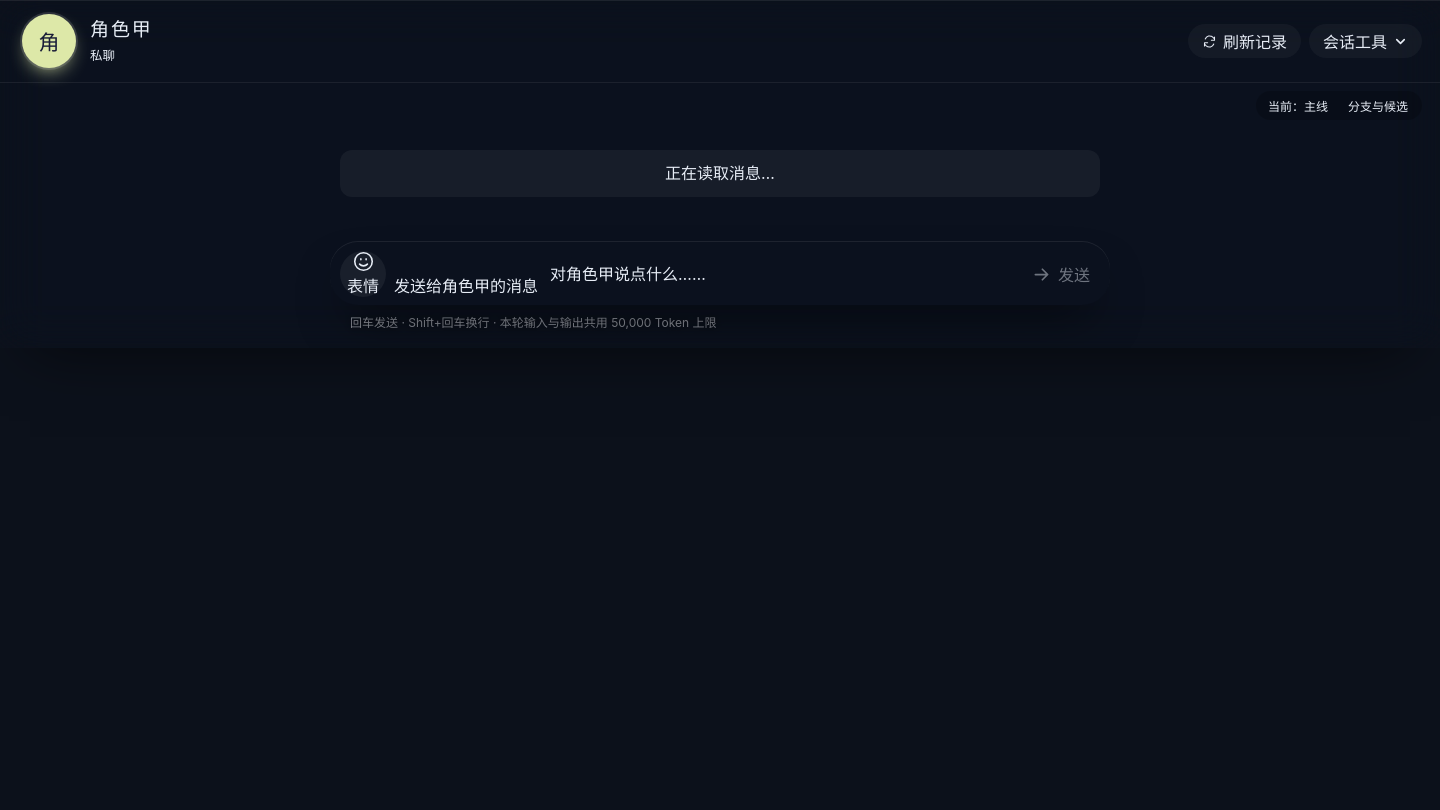
Test: sends one durable turn, requests one reply, then refreshes the transcript
The width and height of the screenshot is (1440, 810).
Type "你好" into the text box.
click(778, 273); type("你好")  # box [546,249,1011,297]
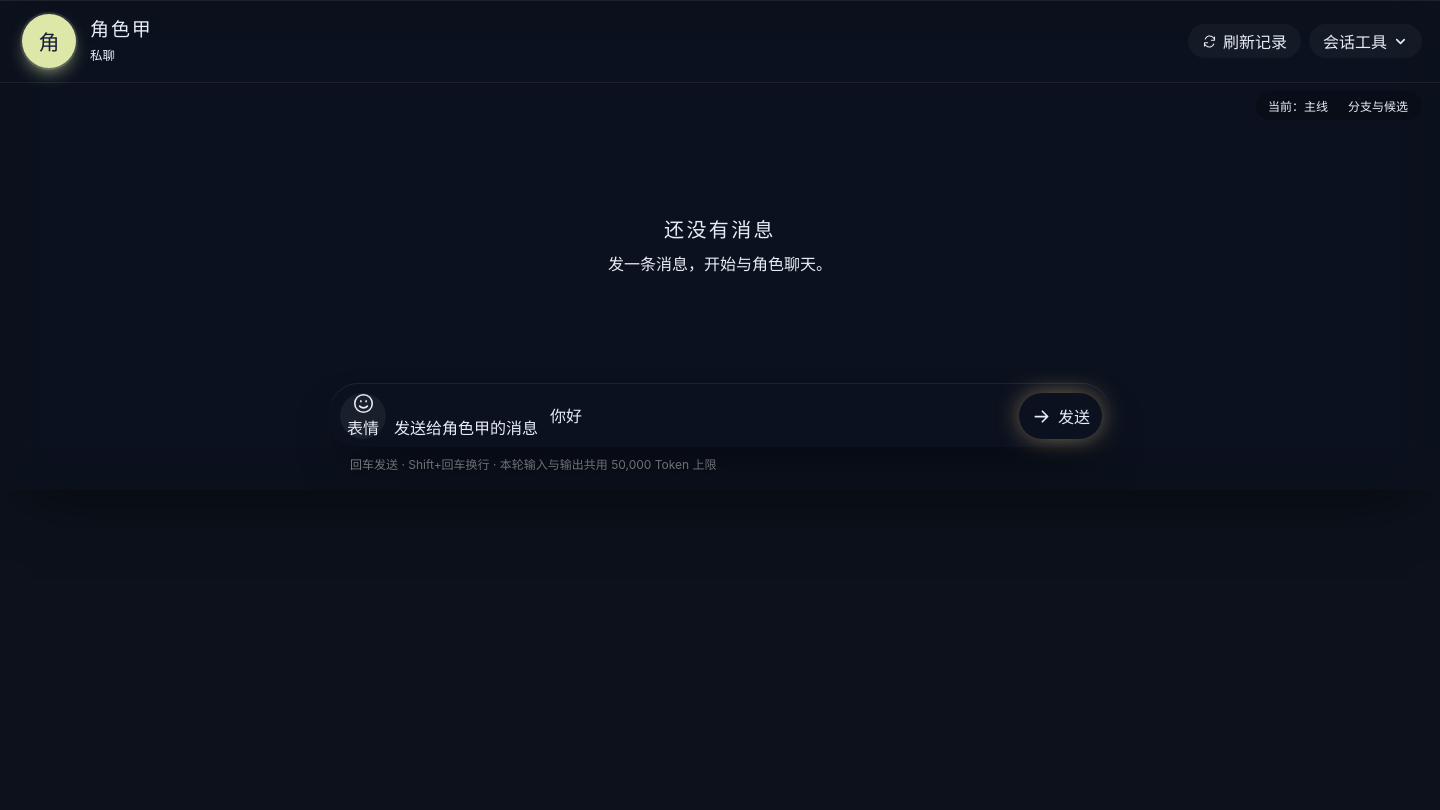
Click the button "发送".
click(1060, 416)  # box [1019,393,1102,439]
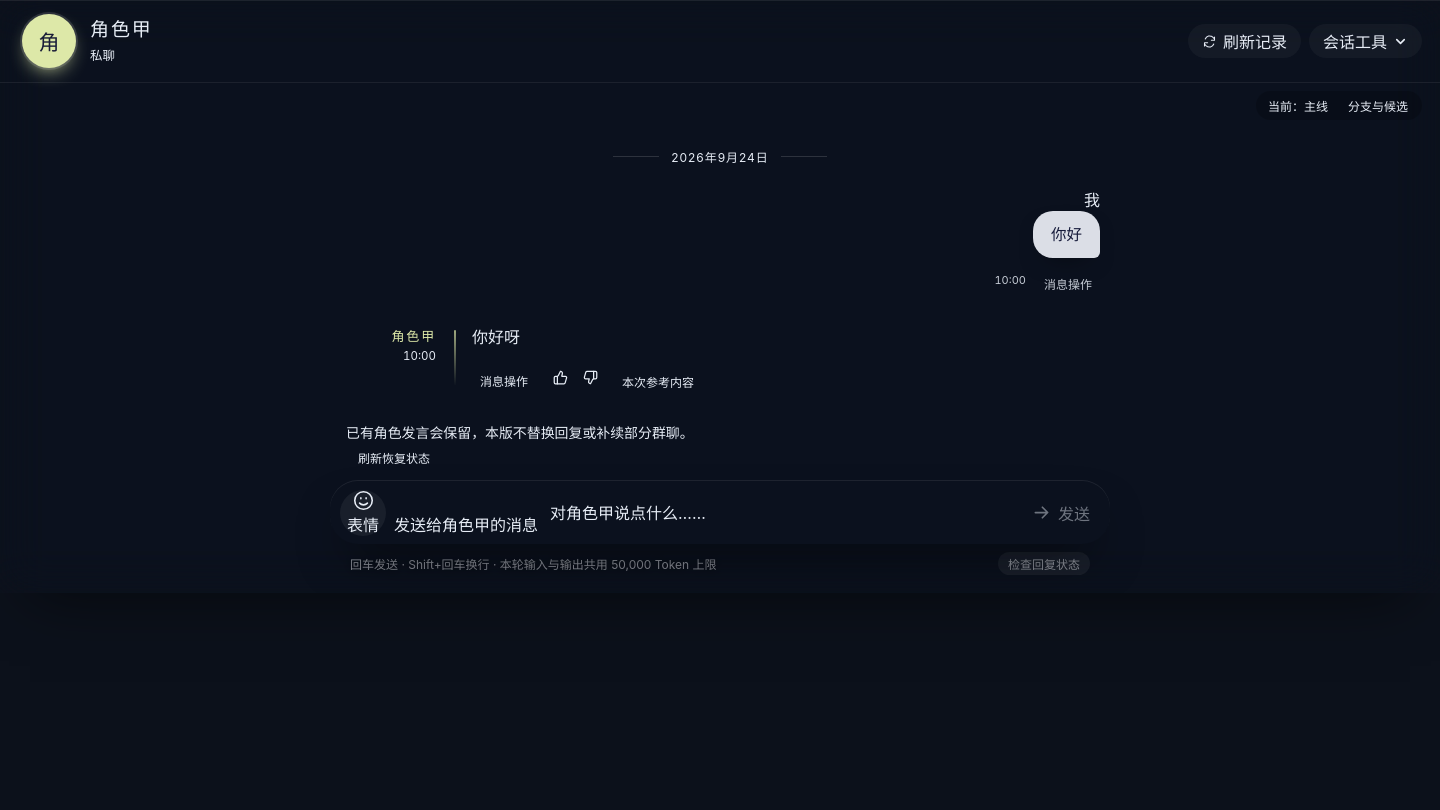
expect the text "你好呀" is shown: met, box [472,326,520,346]
